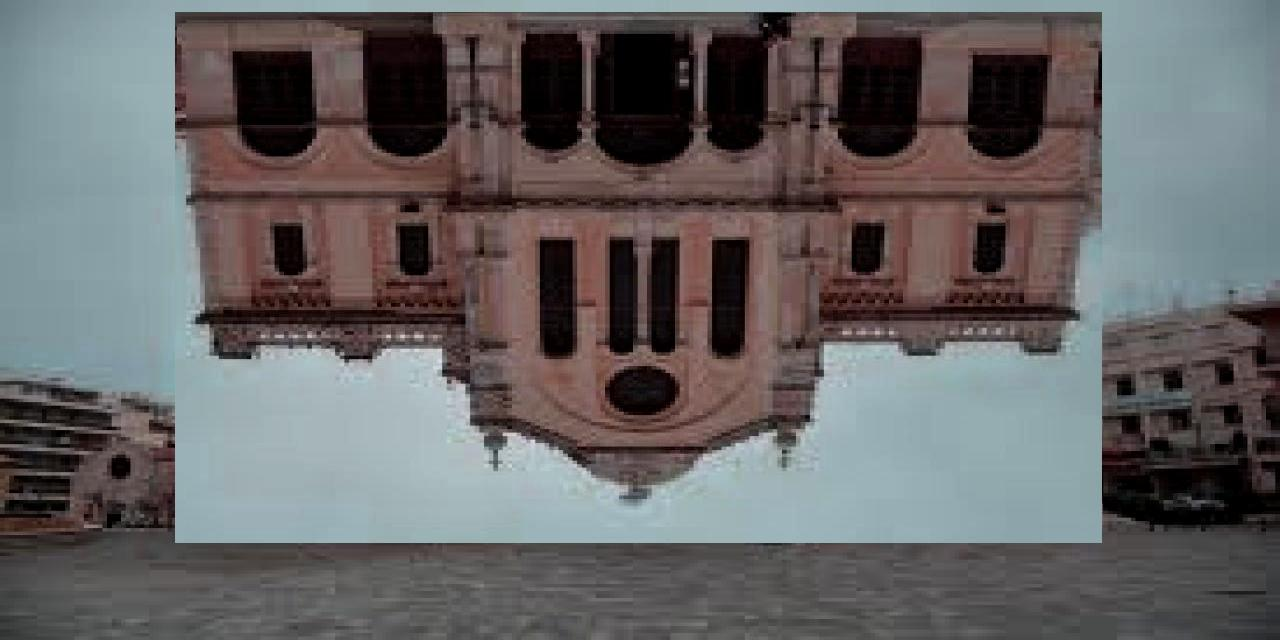Agios Minas: (176, 13, 1103, 544)
